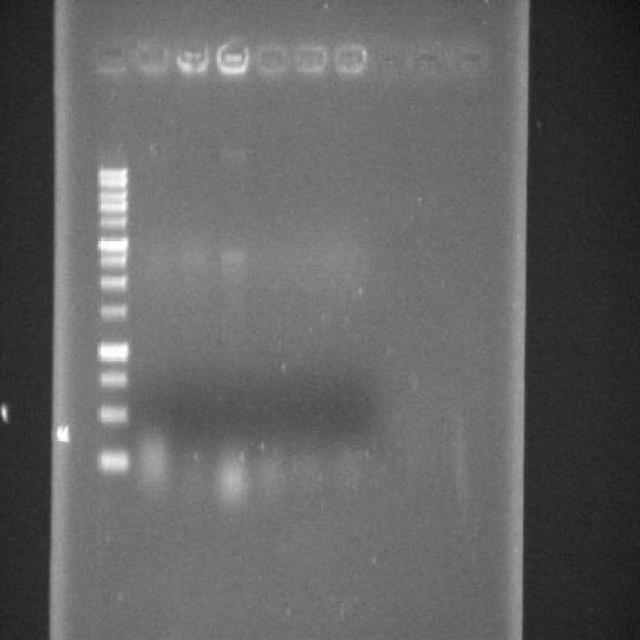B: (138, 438, 174, 484), (210, 456, 248, 498), (216, 248, 250, 266)
L: (88, 24, 506, 94)
M: (86, 135, 137, 497)
P: (93, 442, 132, 478), (94, 338, 132, 366), (94, 400, 131, 428), (93, 366, 130, 392), (94, 300, 131, 322), (94, 234, 130, 253), (96, 272, 130, 292), (94, 252, 130, 270), (96, 216, 130, 230), (96, 188, 130, 201), (96, 201, 130, 214), (96, 167, 129, 178), (96, 178, 129, 188)
Pc: (450, 38, 496, 84), (90, 36, 130, 81), (213, 34, 252, 80), (132, 36, 171, 81), (174, 38, 211, 82), (253, 39, 292, 79), (408, 41, 448, 80), (332, 42, 370, 82), (370, 43, 408, 83), (294, 42, 329, 78)
